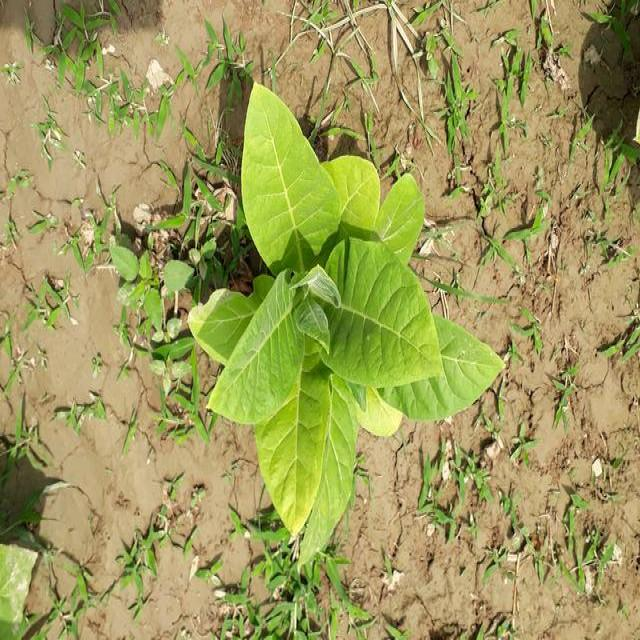crop: (183, 53, 508, 548)
